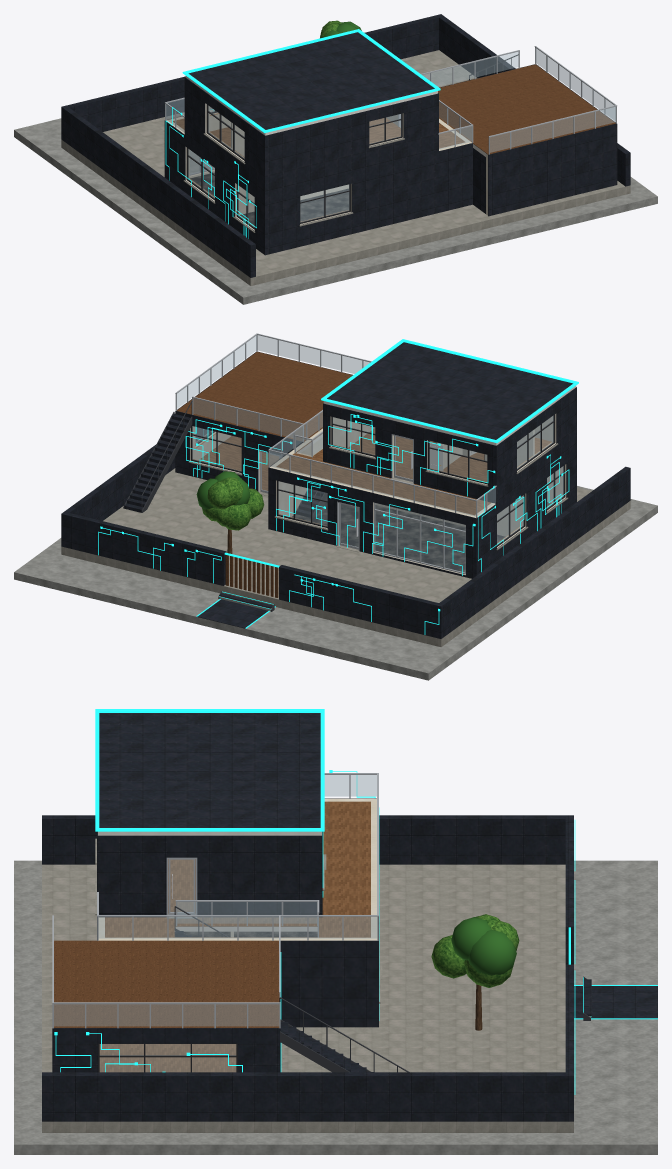
Rendered from b_villa_neon_circuit.gltf.
3 views of the same model, one above another, from view 1: azimuth 30°, elevation 25°; view 2: azimuth 150°, elevation 25°; view 3: azimuth 270°, elevation 25° (orthographic). The views are drawn at different scales.
Visible parts, largest first — view 1: S_villa_neon_circuit; view 2: S_villa_neon_circuit, D_villa_neon_circuit_Gate, D_villa_neon_circuit_M_S1_Door0, D_villa_neon_circuit_U_S1_Door0; view 3: S_villa_neon_circuit, D_villa_neon_circuit_U_W0_Door0.
Boxes of the visible parts, x1,y1,x2,y2 form: S_villa_neon_circuit: (14,14,657,304); S_villa_neon_circuit: (14,333,657,680); D_villa_neon_circuit_Gate: (224,552,279,597); D_villa_neon_circuit_M_S1_Door0: (339,503,358,549); D_villa_neon_circuit_U_S1_Door0: (394,435,412,481); S_villa_neon_circuit: (14,709,657,1154); D_villa_neon_circuit_U_W0_Door0: (168,859,195,914).
Size of the model in its own units: 24 by 7.73 by 23.
23 materials, 12 textured.
